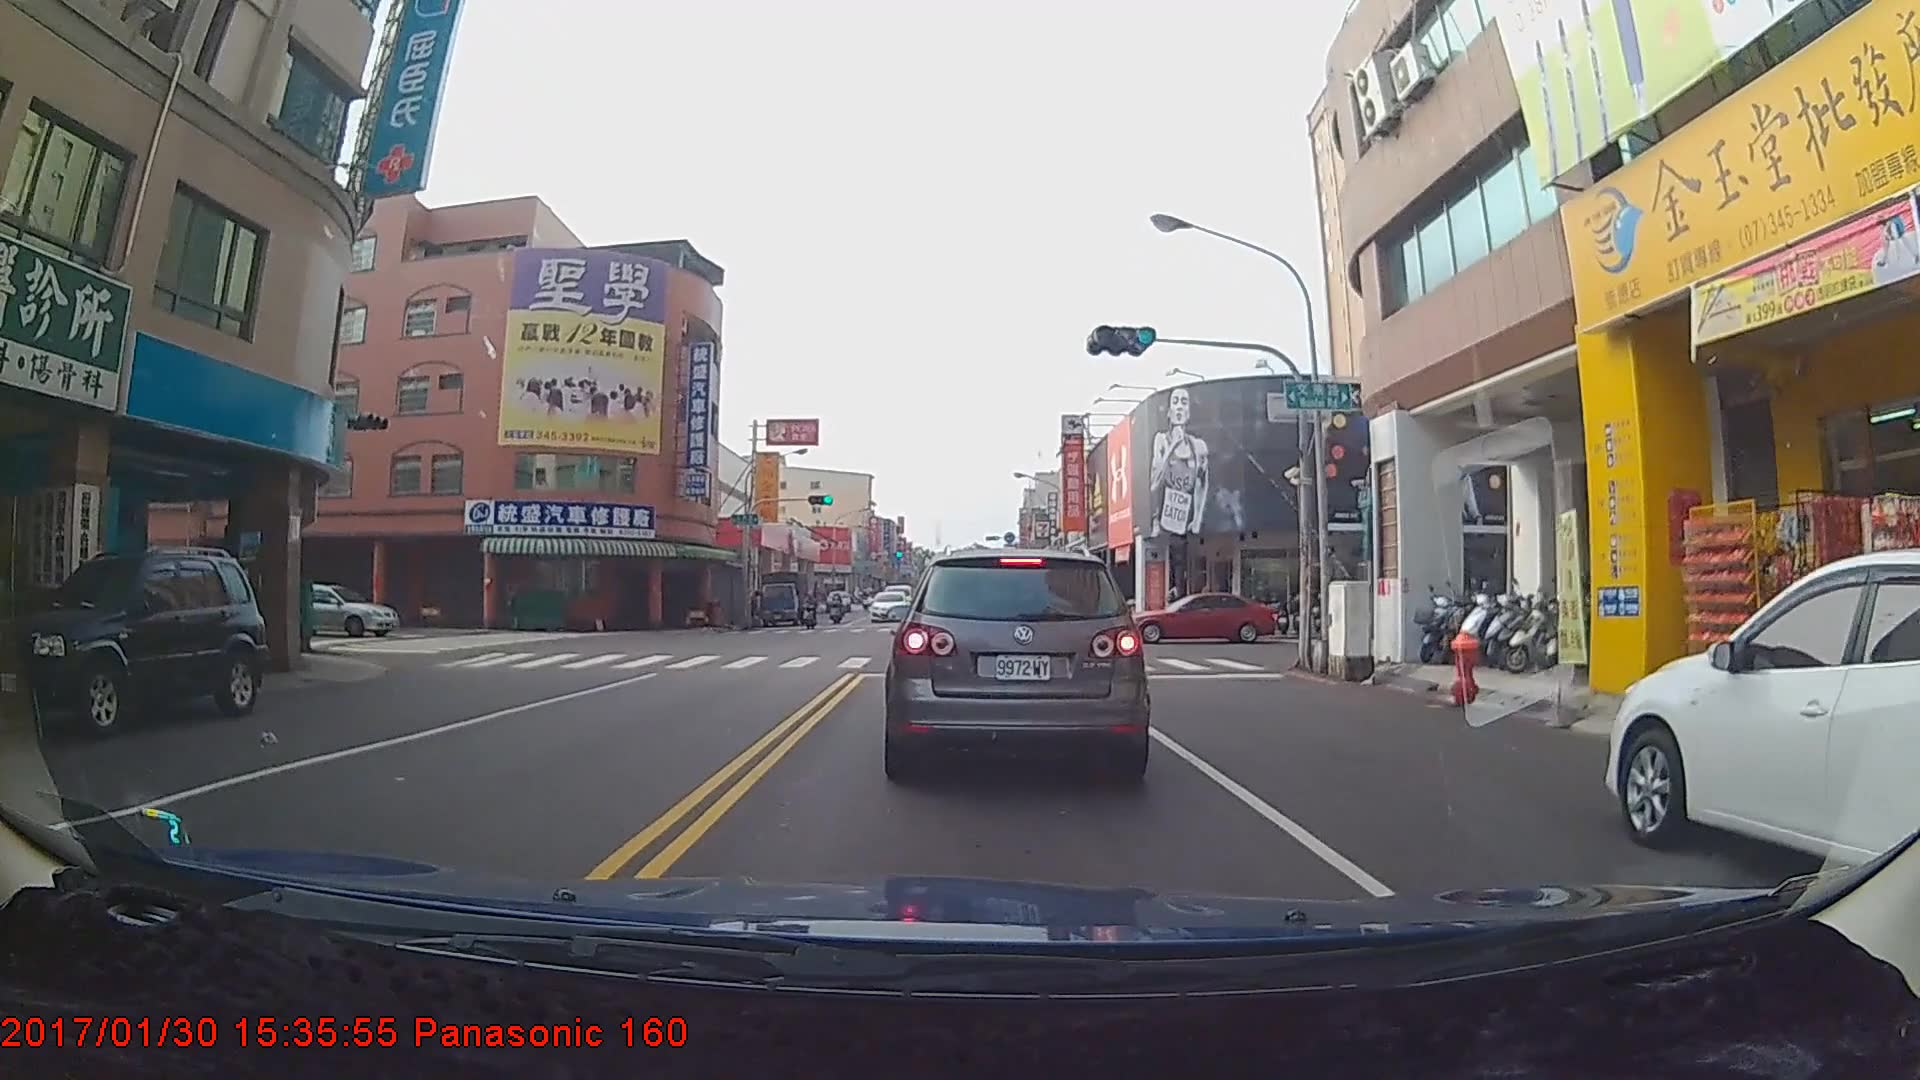rider: (795, 590, 823, 631), (829, 593, 851, 630)
vehicle: (1608, 544, 1920, 929), (888, 543, 1142, 779), (0, 546, 267, 739), (1120, 589, 1277, 642), (260, 578, 404, 632), (756, 572, 811, 630), (866, 590, 908, 625)
